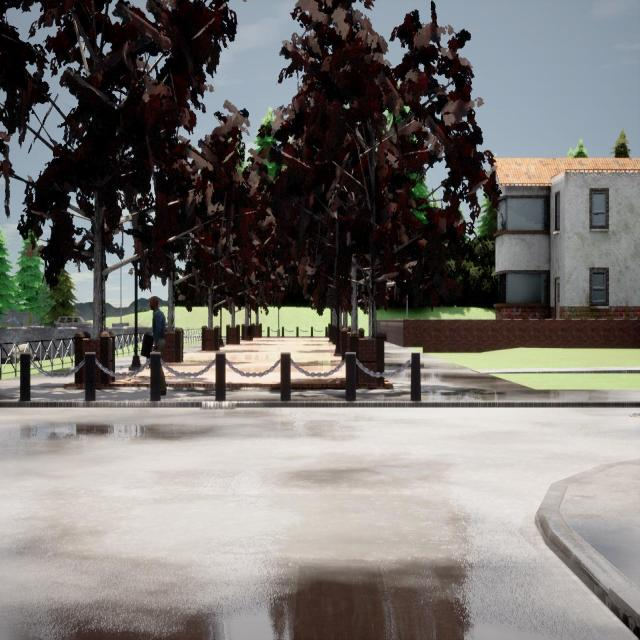Pedestrian: (146, 295, 170, 396)
Vehicle: (53, 317, 92, 327)
